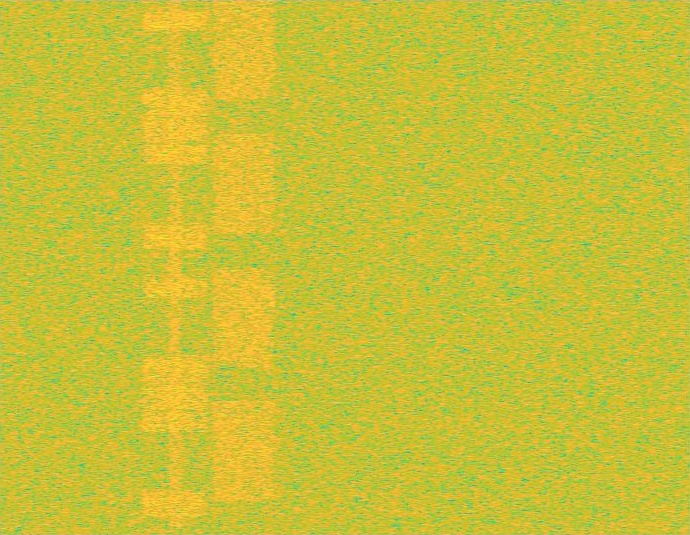5G: (210, 0, 279, 534)
DSSS: (167, 0, 183, 534)
LTE: (141, 0, 210, 534)
Radar: (153, 0, 167, 534)
